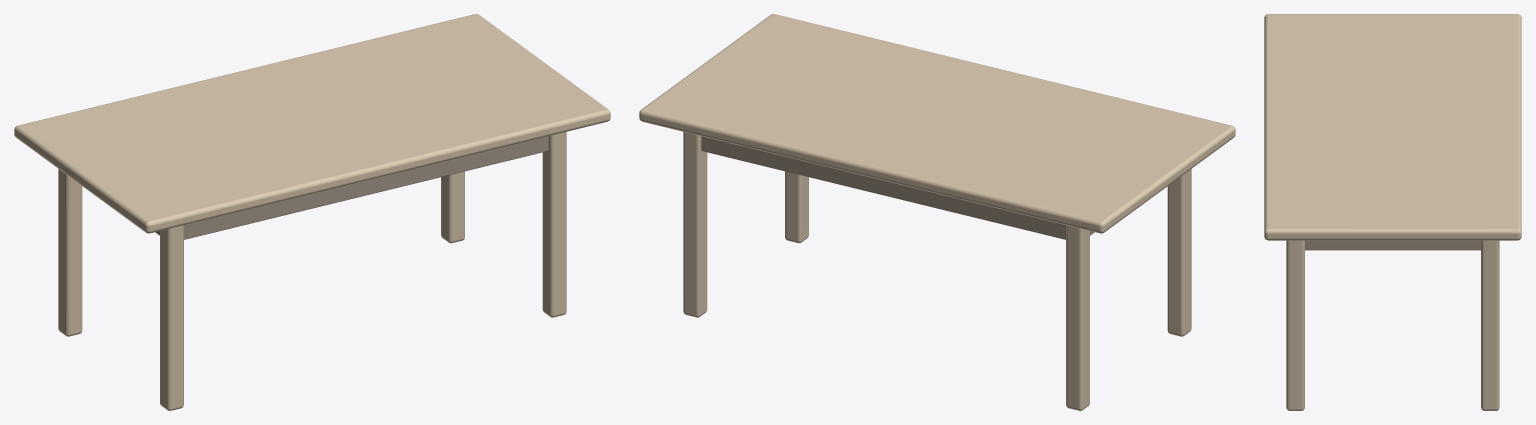
The model's file is dining-table.glb.
3 views of the same model, side by side, from view 1: azimuth 30°, elevation 25°; view 2: azimuth 150°, elevation 25°; view 3: azimuth 270°, elevation 25° (orthographic). The views are drawn at different scales.
Parts seen in each view (by area): view 1: dining-table; view 2: dining-table; view 3: dining-table.
Boxes of the visible parts, left/top/right/bottom form: dining-table: left=14, top=14, right=610, bottom=410; dining-table: left=639, top=14, right=1235, bottom=410; dining-table: left=1264, top=14, right=1521, bottom=410.
Size of the model in its own units: 1.8 by 0.76 by 0.9.
